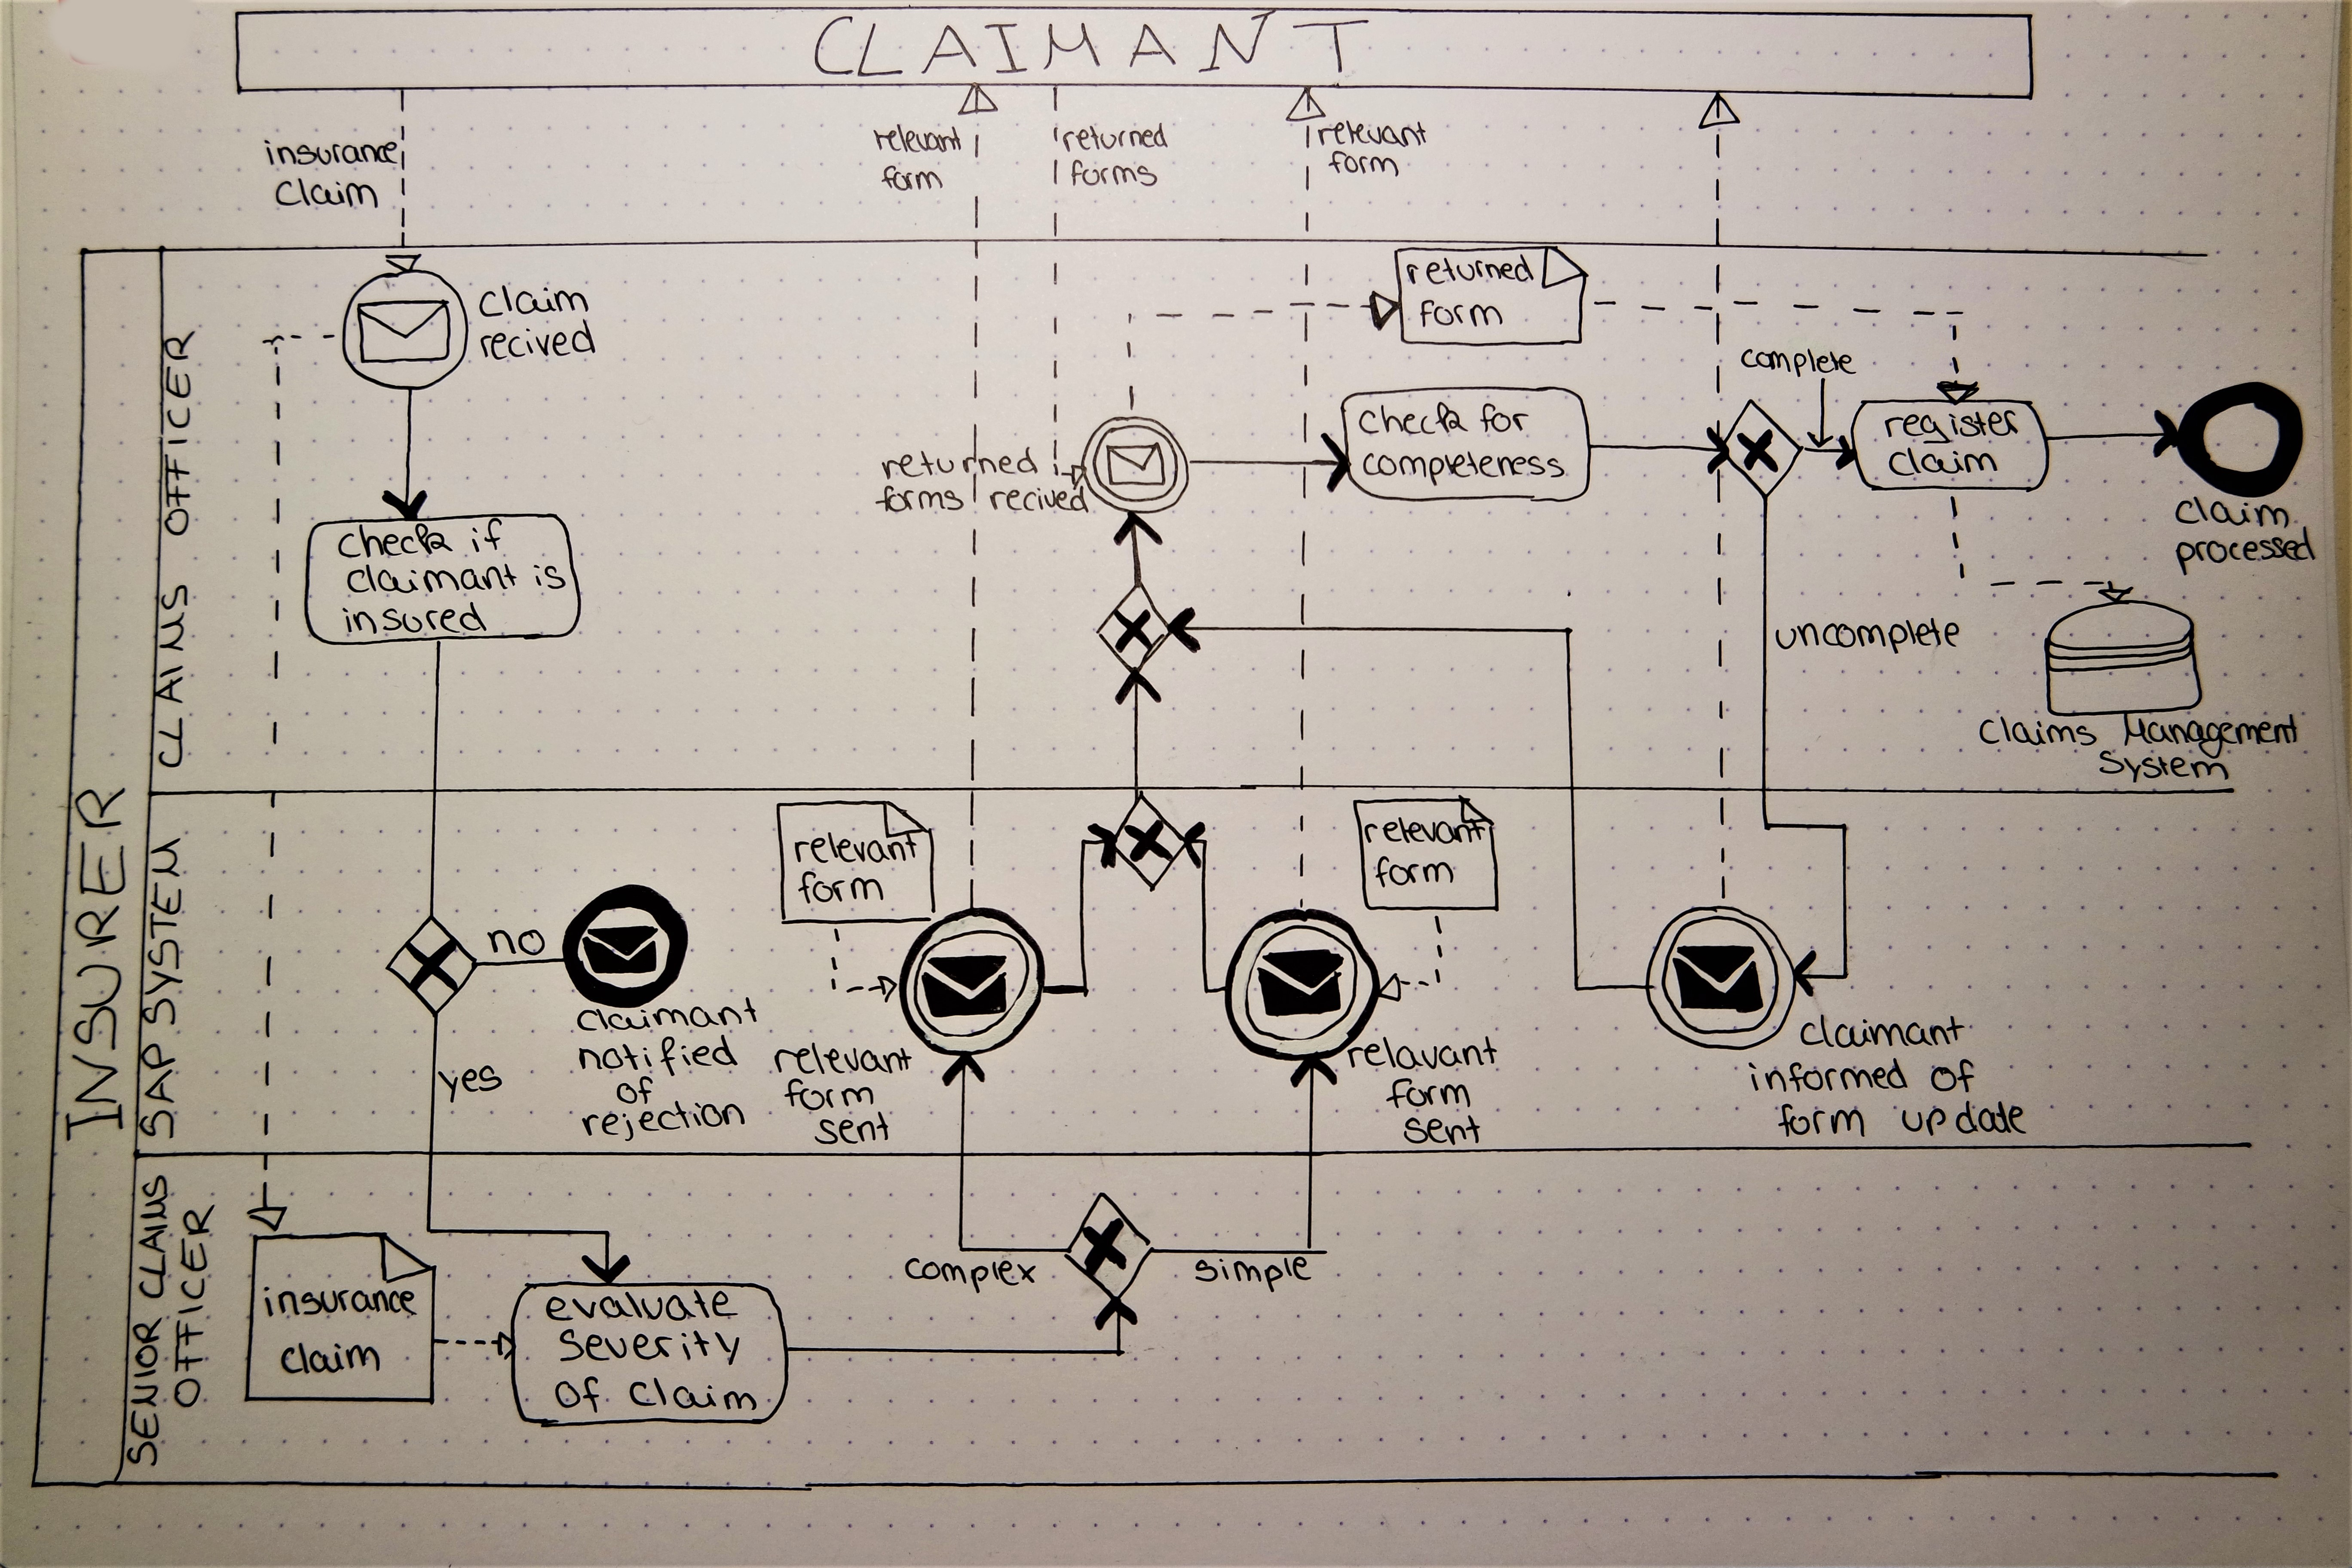CLAIMANT: (815, 12, 1377, 86)
CLAIMS: (152, 565, 196, 772), (131, 1158, 177, 1298)
Claim: (479, 278, 590, 320)
Claimant: (579, 996, 761, 1039)
INSURER: (59, 770, 135, 1144)
Management: (2128, 710, 2301, 752)
OFFICER: (168, 1204, 215, 1403), (156, 331, 199, 527)
SAP: (136, 1038, 184, 1143)
SENIOR: (124, 1311, 168, 1470)
SYSTEM: (140, 833, 191, 1027)
System: (2100, 749, 2226, 787)
check: (336, 521, 457, 560), (1356, 402, 1466, 441)
claim: (628, 1375, 759, 1416), (273, 175, 383, 212), (1888, 444, 2002, 479), (2177, 497, 2296, 530), (280, 1340, 385, 1377)
claimant: (348, 560, 521, 600), (1801, 1011, 1970, 1052)
claims: (1974, 712, 2100, 749)
complete: (1738, 345, 1862, 378)
completeness: (1360, 444, 1563, 485)
complex: (901, 1256, 1039, 1290)
evaluate: (549, 1288, 735, 1326)
for: (1473, 402, 1531, 437)
form: (794, 870, 889, 906), (780, 1076, 877, 1111), (1386, 1074, 1470, 1113), (1374, 852, 1456, 889), (1780, 1102, 1865, 1137), (1416, 297, 1505, 329), (1326, 150, 1402, 178), (880, 164, 945, 194)
forms: (1066, 157, 1160, 189), (882, 483, 959, 516)
if: (467, 520, 502, 556)
informed: (1741, 1057, 1909, 1097)
insurance: (259, 1284, 420, 1321), (264, 135, 399, 171)
insured: (341, 602, 486, 639)
is: (528, 558, 567, 593)
no: (493, 924, 542, 959)
notified: (583, 1039, 752, 1076)
of: (549, 1372, 612, 1414), (1932, 1055, 1976, 1094), (618, 1073, 656, 1108)
processed: (2175, 532, 2317, 570)
recived: (481, 324, 595, 364), (987, 485, 1088, 516)
register: (1885, 408, 2023, 443)
rejection: (579, 1097, 751, 1137)
relavant: (1344, 1036, 1500, 1074)
relevant: (775, 1039, 912, 1076), (793, 833, 922, 868), (1363, 814, 1487, 849), (1316, 115, 1431, 149), (871, 124, 961, 159)
returned: (882, 446, 1036, 483), (1405, 254, 1535, 287), (1064, 121, 1171, 156)
sent: (817, 1113, 894, 1148), (1407, 1113, 1480, 1146)
severity: (562, 1326, 744, 1367)
simple: (1193, 1255, 1314, 1290)
uncomplete: (1780, 616, 1962, 654)
update: (1900, 1097, 2026, 1139)
yes: (436, 1059, 509, 1108)
